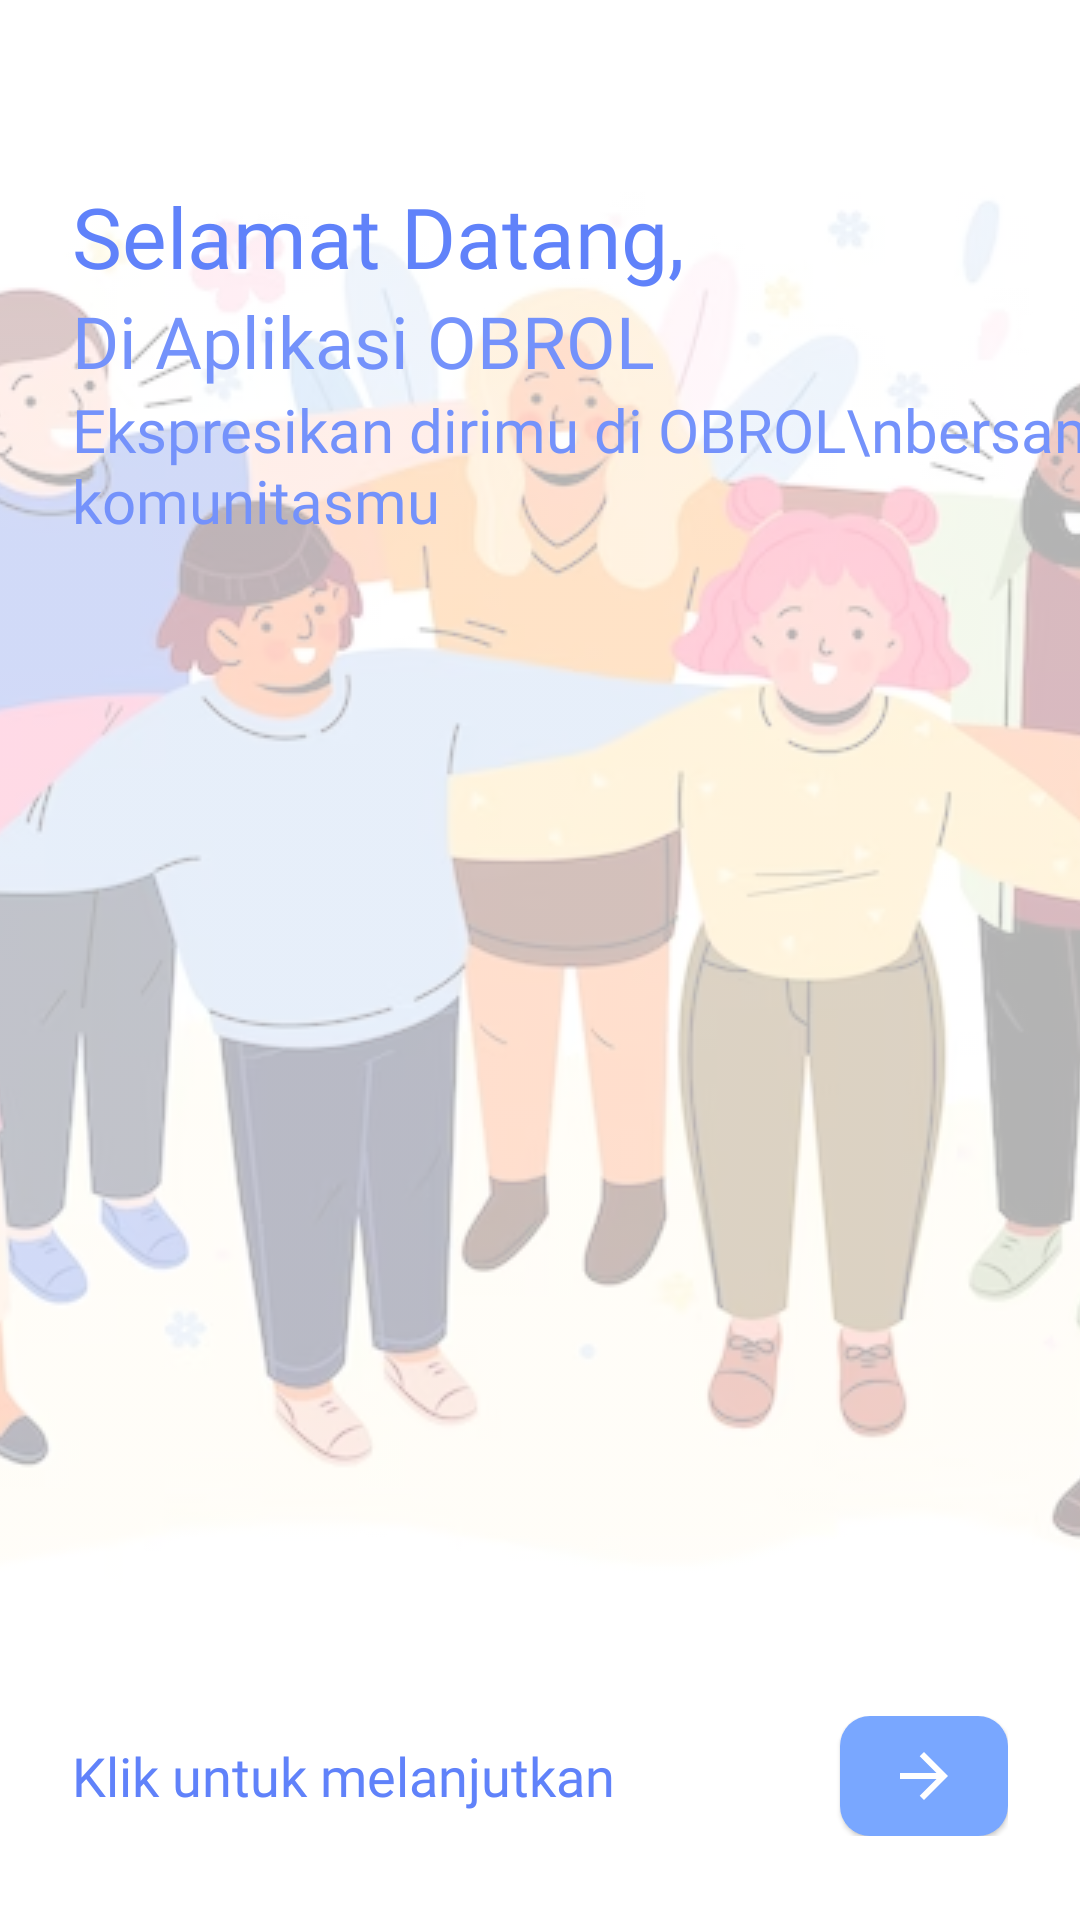

Point at icon controls on the screen. Image size 1080w x 1920h, points as (x=x, y=y).
arrow forward: (x=924, y=1776)
